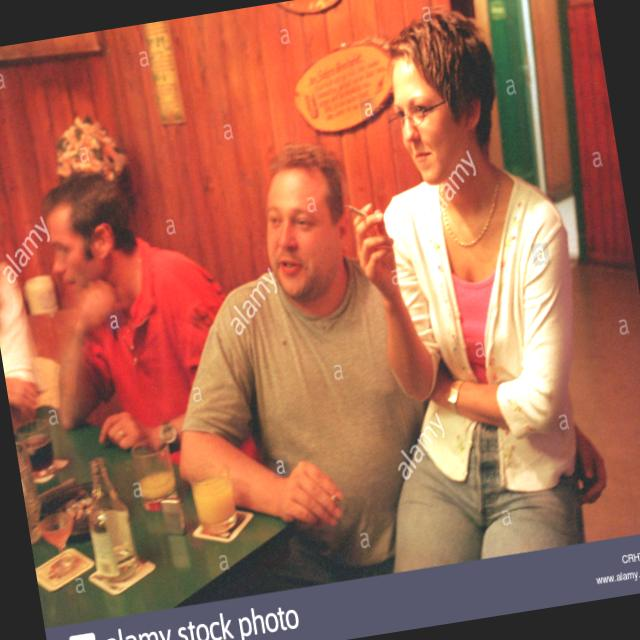smoke: (343, 199, 368, 223)
